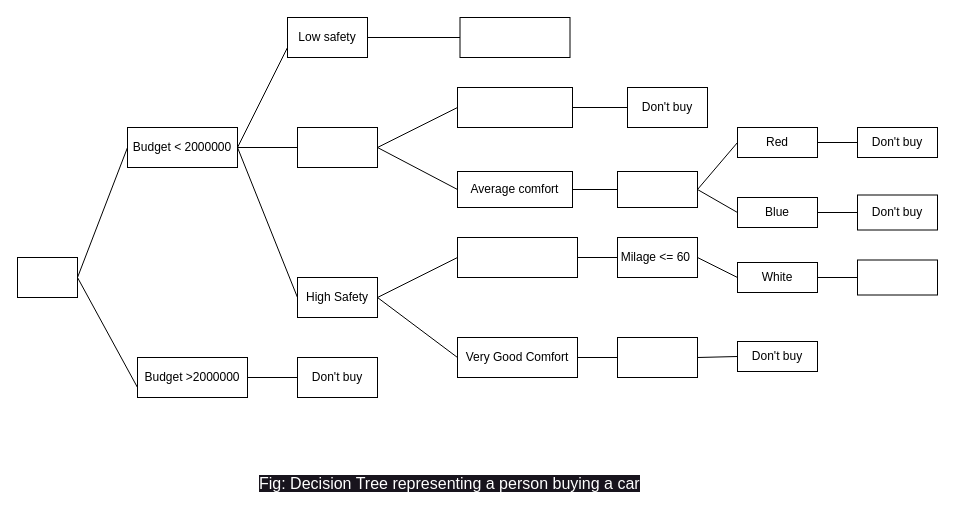
This 955x525 diagram has some shape labels left out. The centre of each missing label's shape, as x and y in pixels:
Bad comfort: [514,107]
Buy: [897,277]
Buy a car: [47,277]
Don;t buy: [514,37]
Good comfort: [517,257]
Mid Safety: [337,147]
Milage < 50: [657,357]
Milage <= 50: [657,189]
